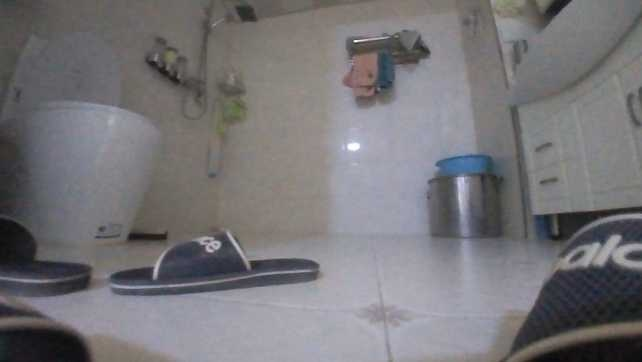slipper: (106, 227, 321, 295), (1, 213, 92, 294)
toilet: (5, 29, 165, 245)
